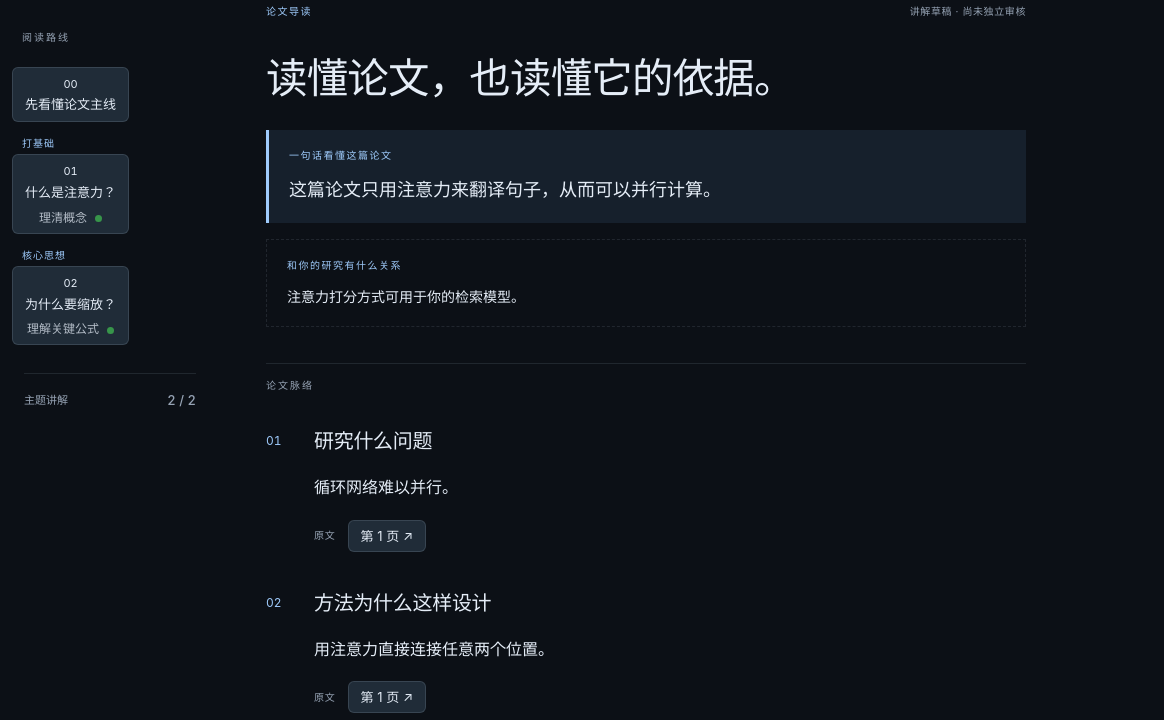
Scenario: layered teaching from simple to deep › shows the revised lesson and its re-check instead of the rejected draft
Click the button "02 为什么要缩放？ 理解关键公式" at (70, 306), box [12,266,129,346]
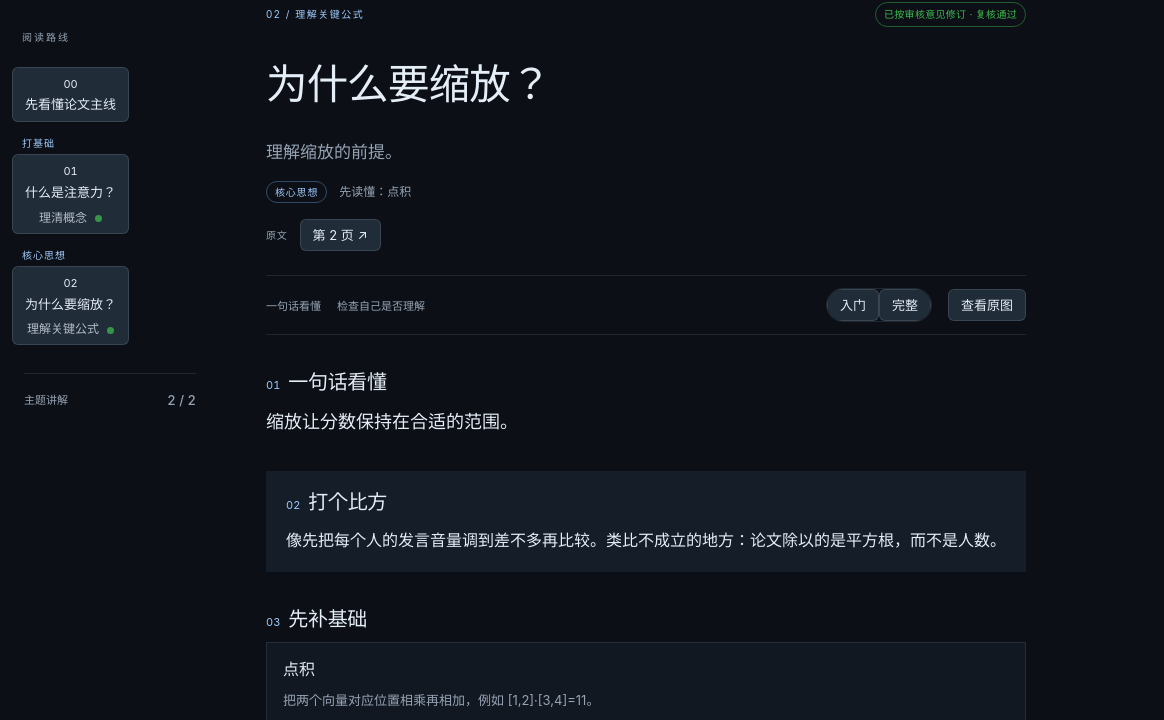
Check: the text "缩放让分数保持在合适的范围。" is shown, box [266,411,518,432]
Check: the text "已按审核意见修订 · 复核通过" is shown, box [875,2,1026,26]
